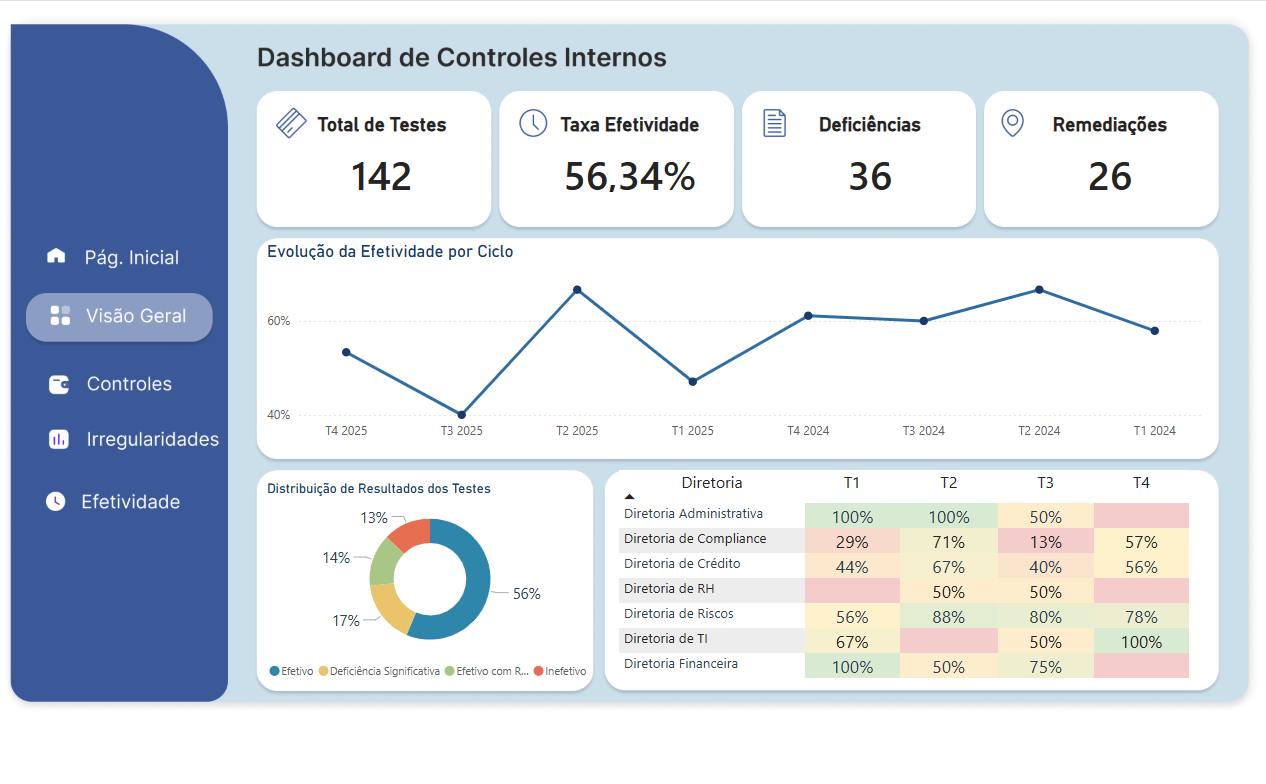

The page's visual inventory and layout, read from the dashboard file:
{"tool":"powerbi","page":{"name":"Visão Geral","canvas":[1280,720],"ordinal":1},"visuals":[{"type":"cardVisual","title":"Total de Testes","fields":{"Data":["_medidas.total_testes"]},"box":[304,112,176,96],"z":0},{"type":"cardVisual","title":"Taxa Efetividade","fields":{"Data":["_medidas.Taxa Efetividade Geral"]},"box":[544,112,192,96],"z":1000},{"type":"cardVisual","title":"Remediações","fields":{"Data":["_medidas.Remediacoes Atrasadas"]},"box":[1024,112,192,96],"z":2000},{"type":"cardVisual","title":"Deficiências","fields":{"Data":["_medidas.Deficiencias Abertas"]},"box":[784,112,192,96],"z":3000},{"type":"donutChart","title":"Distribuição de Resultados dos Testes","fields":{"Y":["_medidas.total_testes"],"Category":["fato_teste_controle.resultado_teste"]},"box":[272,480,336,208],"z":4000},{"type":"lineChart","title":"Evolução da Efetividade por Ciclo","fields":{"Category":["dim_ciclo.Ciclo Curto"],"Y":["_medidas.Taxa Efetividade Geral"]},"box":[272,240,944,208],"z":5000},{"type":"pivotTable","fields":{"Rows":["dim_processo.diretoria"],"Columns":["dim_ciclo.trimestre"],"Values":["_medidas.Taxa Efetividade Geral"]},"box":[624,464,592,224],"z":6000},{"type":"actionButton","box":[48,224,160,48],"z":7000},{"type":"actionButton","box":[48,368,160,32],"z":8000},{"type":"actionButton","box":[48,416,176,48],"z":9000},{"type":"actionButton","box":[48,480,176,48],"z":10000}]}

Visuals, with their boxes on the page's 1280x720 design canvas (x1, y1, x2, y2). These are canvas units, not pixel positions in the 1266x784 screenshot, which may show the page scaled, cropped or inside an application window:
"Total de Testes" cardVisual: (x1=304, y1=112, x2=480, y2=208)
"Taxa Efetividade" cardVisual: (x1=544, y1=112, x2=736, y2=208)
"Remediações" cardVisual: (x1=1024, y1=112, x2=1216, y2=208)
"Deficiências" cardVisual: (x1=784, y1=112, x2=976, y2=208)
"Distribuição de Resultados dos Testes" donutChart: (x1=272, y1=480, x2=608, y2=688)
"Evolução da Efetividade por Ciclo" lineChart: (x1=272, y1=240, x2=1216, y2=448)
pivotTable - dim_processo.diretoria x dim_ciclo.trimestre: (x1=624, y1=464, x2=1216, y2=688)
actionButton: (x1=48, y1=224, x2=208, y2=272)
actionButton: (x1=48, y1=368, x2=208, y2=400)
actionButton: (x1=48, y1=416, x2=224, y2=464)
actionButton: (x1=48, y1=480, x2=224, y2=528)
